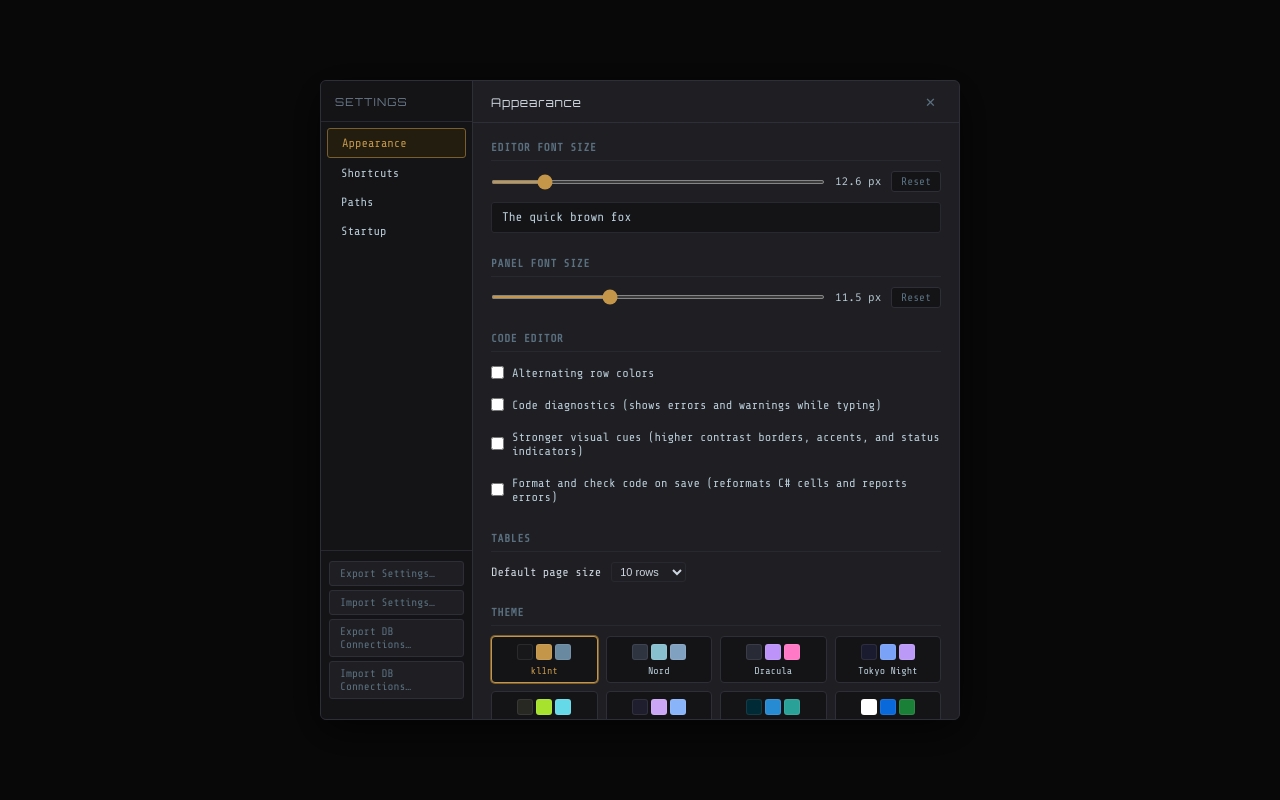
Test case: section navigation › switches to Startup section on click
Click the button with class "settings-section-btn" showing "Startup" at (396, 231), box [327,217,466,245]
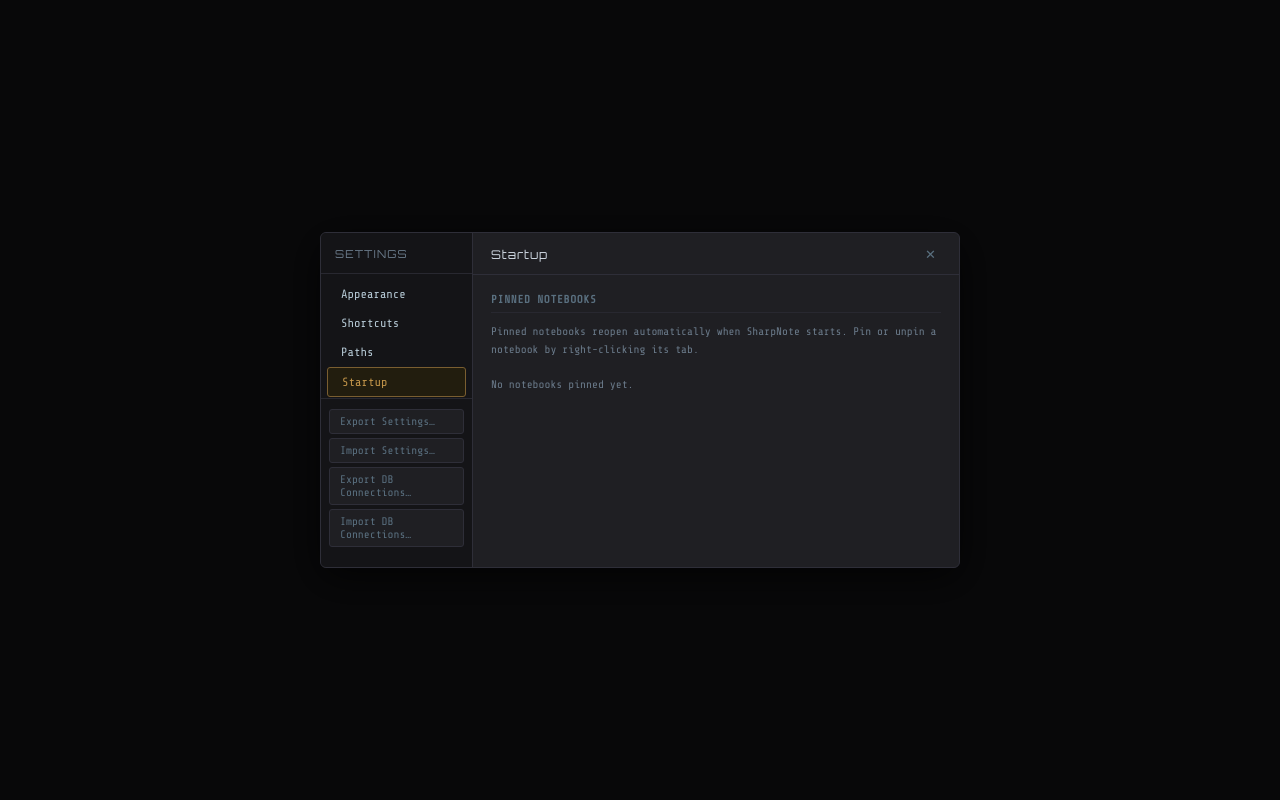
Now the text "Pinned Notebooks" is shown, box [491,293,941,313]
